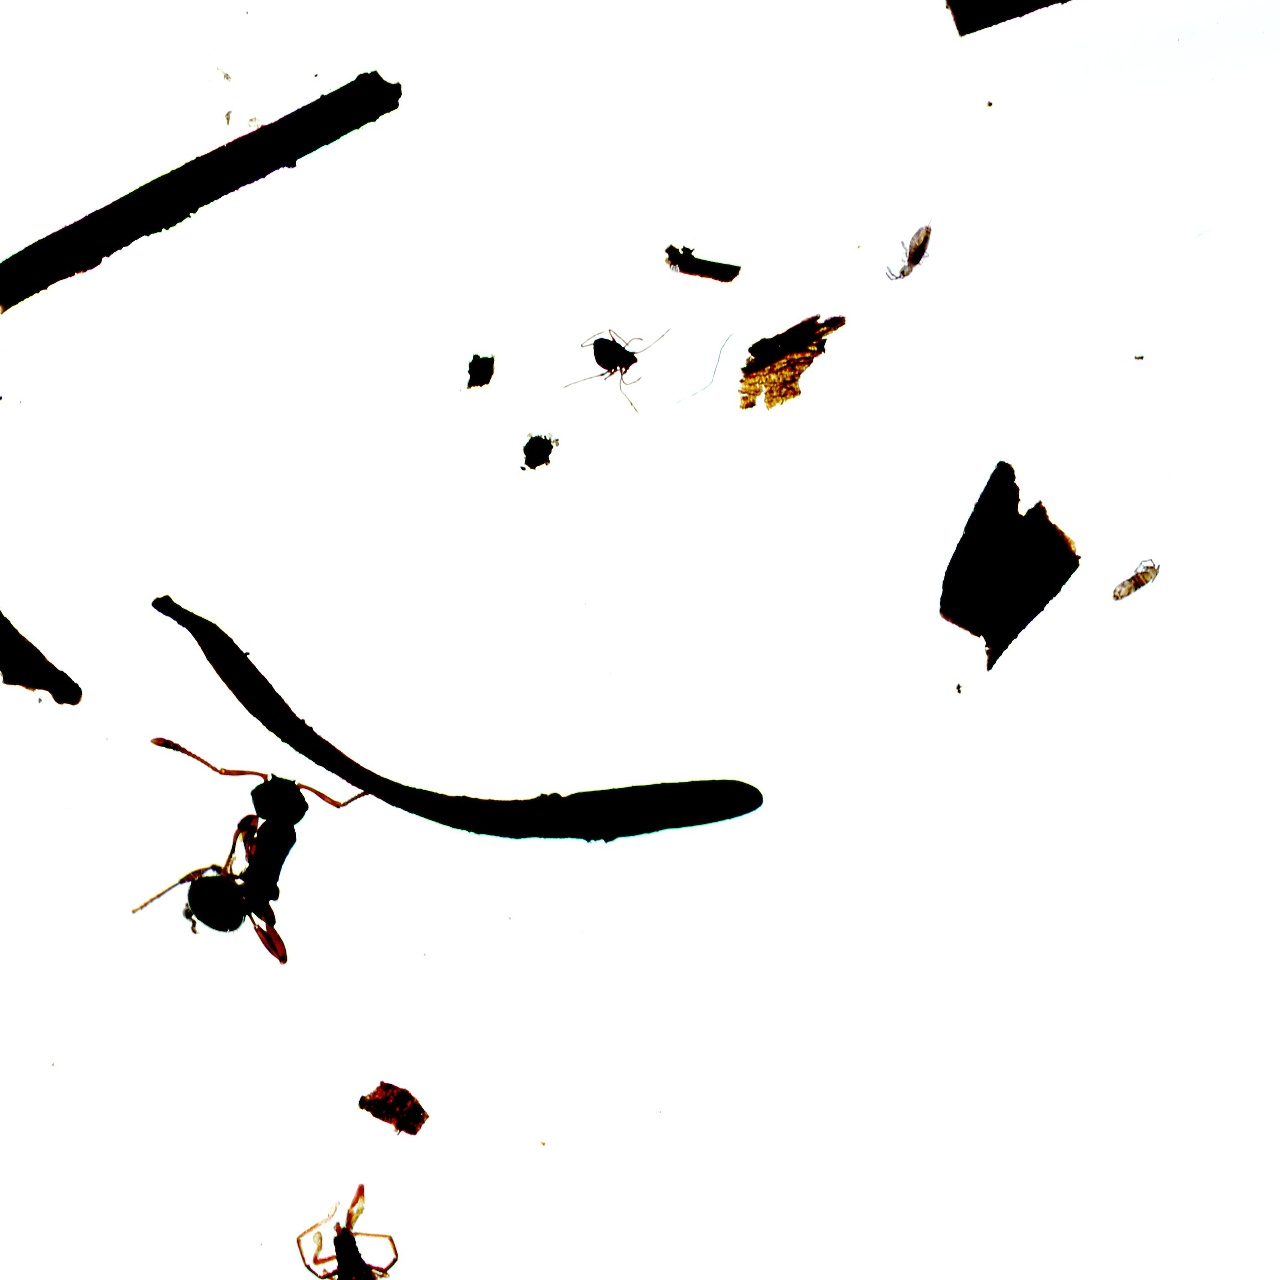arthropod: (122, 719, 384, 975), (556, 320, 676, 418), (1083, 529, 1191, 638), (291, 1182, 401, 1280), (870, 195, 951, 307)
